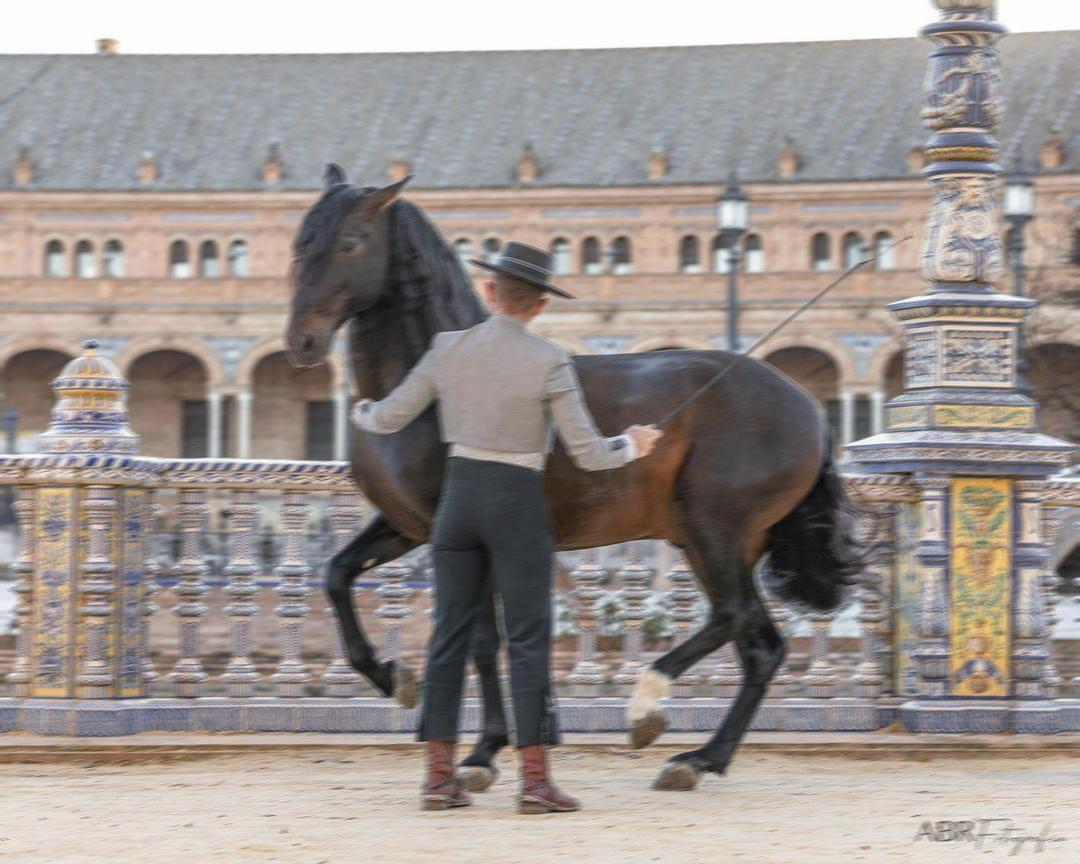horse: (282, 161, 886, 794)
